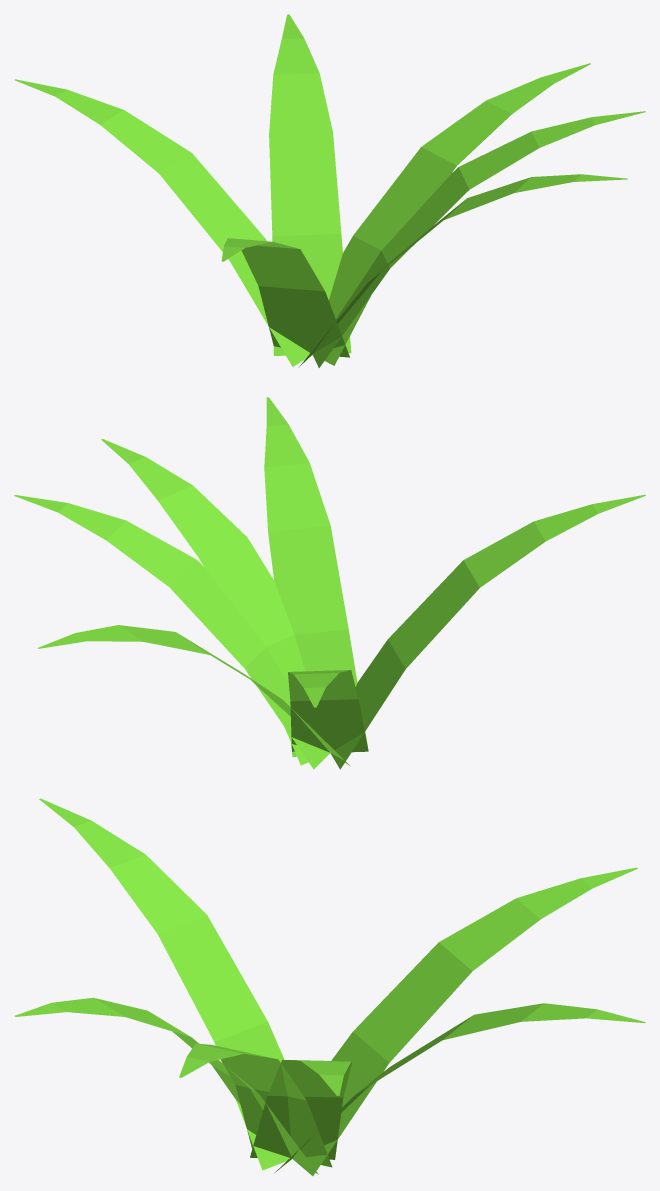
The model's file is grass-003.glb.
The picture shows the model from 3 angles, top to bottom: view 1: azimuth 30°, elevation 25°; view 2: azimuth 150°, elevation 25°; view 3: azimuth 270°, elevation 25°; orthographic projection. The views are drawn at different scales.
Visible parts, largest first — view 1: grass 6_55; view 2: grass 6_55; view 3: grass 6_55.
Part boxes in pixels (box(x1,y1,x2,y2)): grass 6_55: box(14, 14, 645, 367); grass 6_55: box(14, 397, 645, 769); grass 6_55: box(14, 798, 645, 1175).
Bounding box in the file's own units: 0.7604 × 0.3303 × 0.7489.
